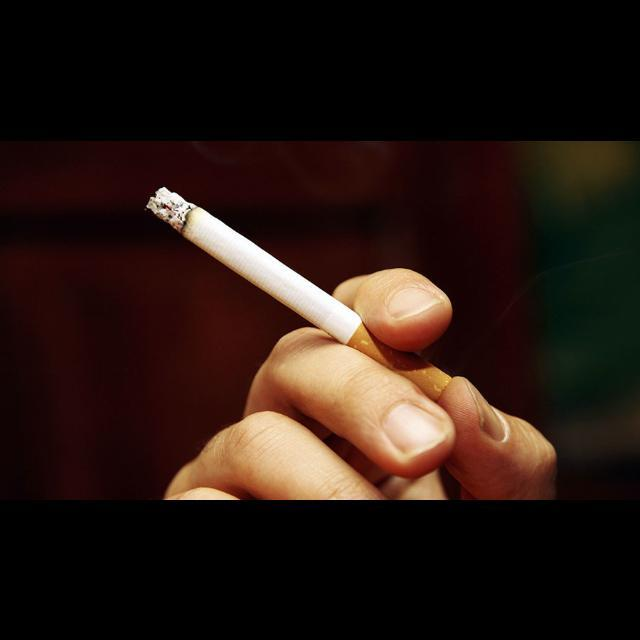rokok: (96, 168, 452, 390)
